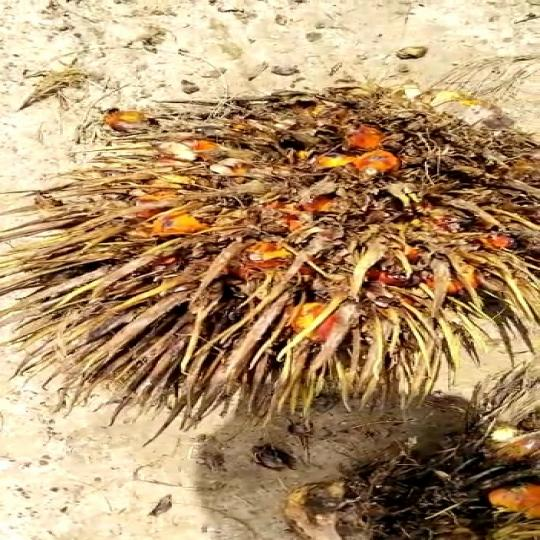terlalu masak: (1, 75, 540, 428)
